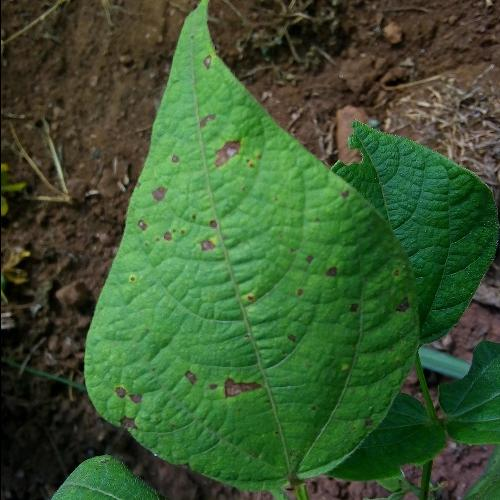hawar: (132, 178, 231, 274), (96, 377, 166, 458), (200, 110, 248, 181), (176, 368, 262, 405)
